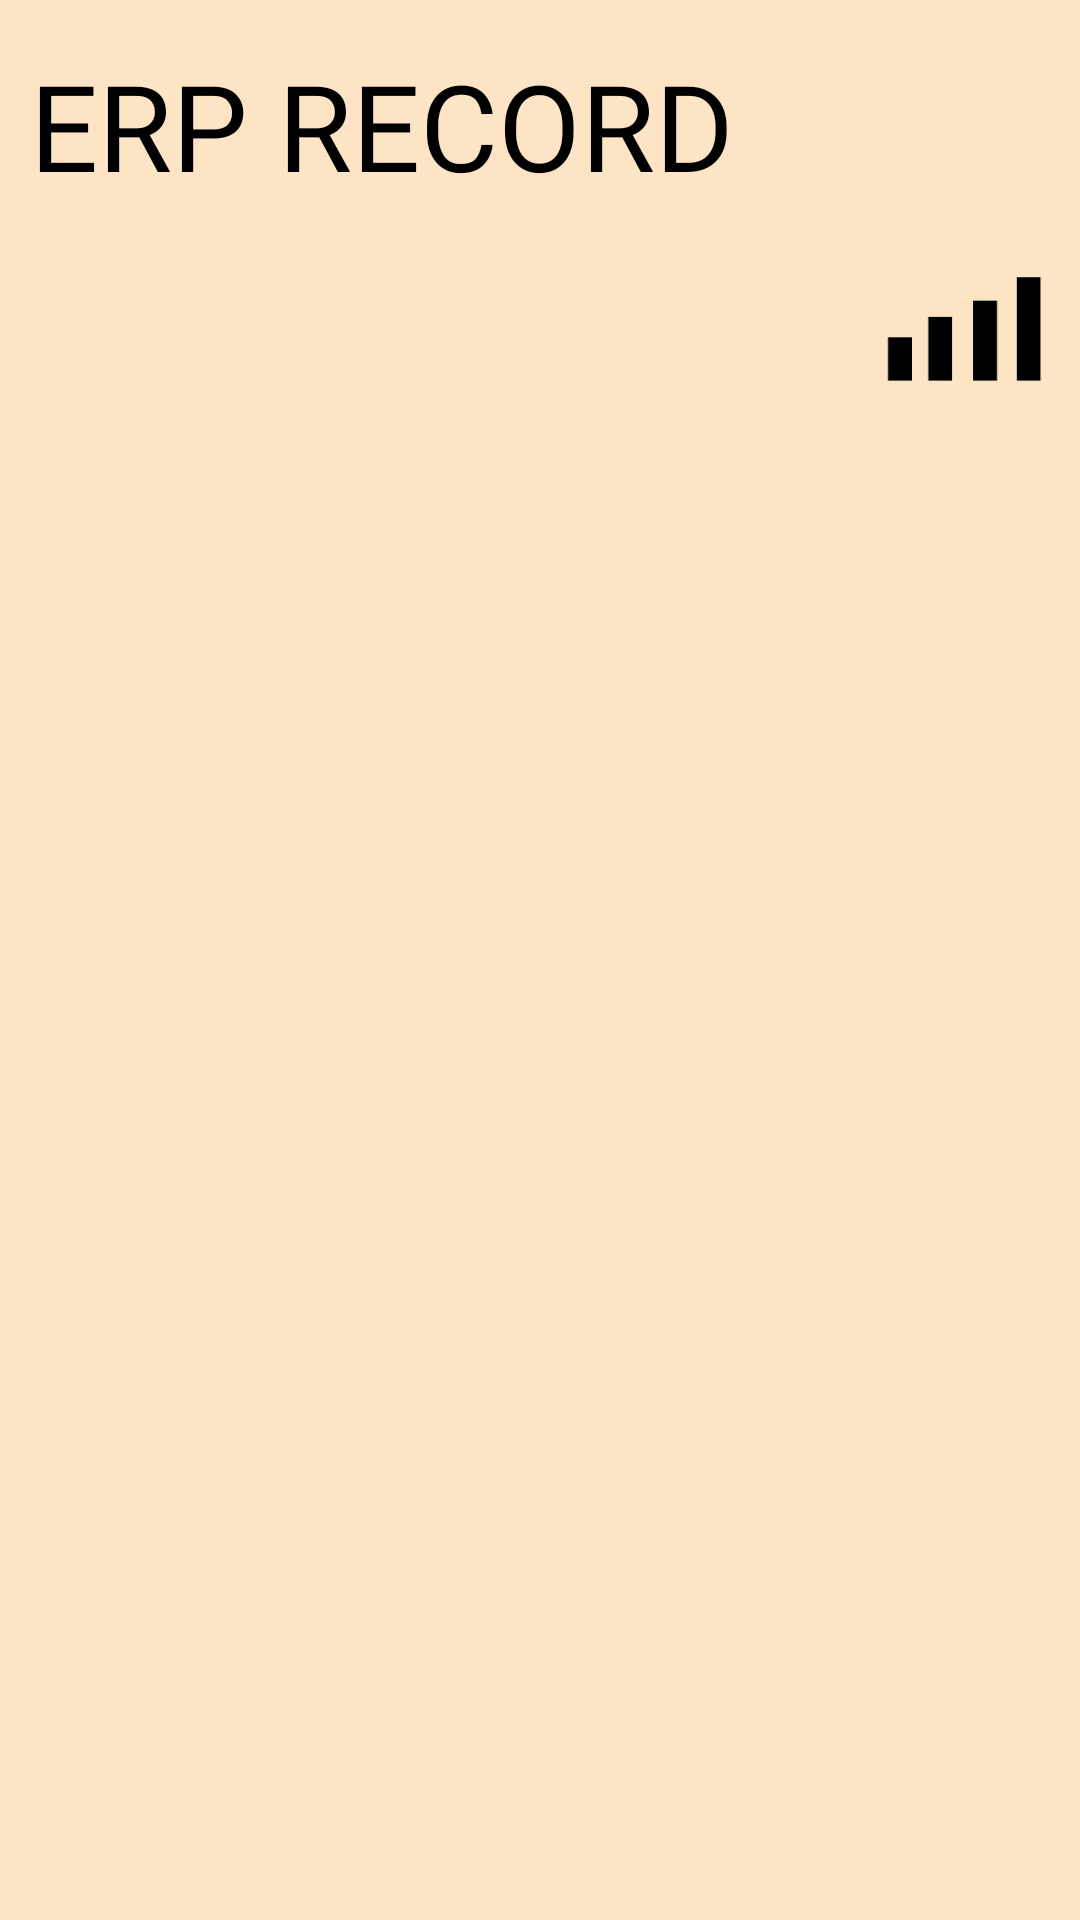

Where to tap for icons on this 1080 × 1920 app screen, as [x,y]:
stat: [964,329]
